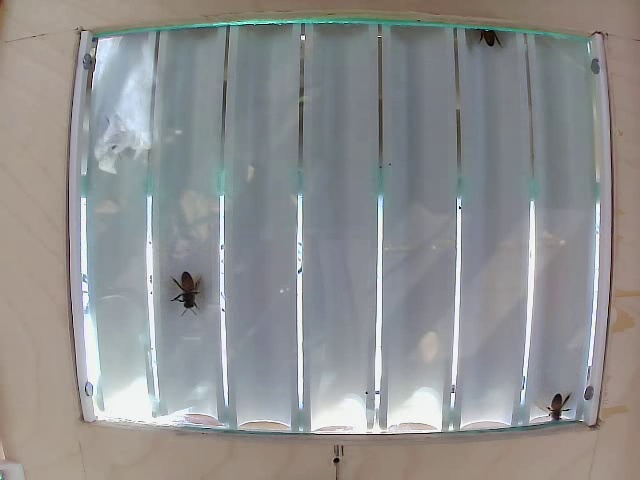bee: (166, 273, 219, 319), (480, 21, 510, 65), (558, 387, 573, 425)
